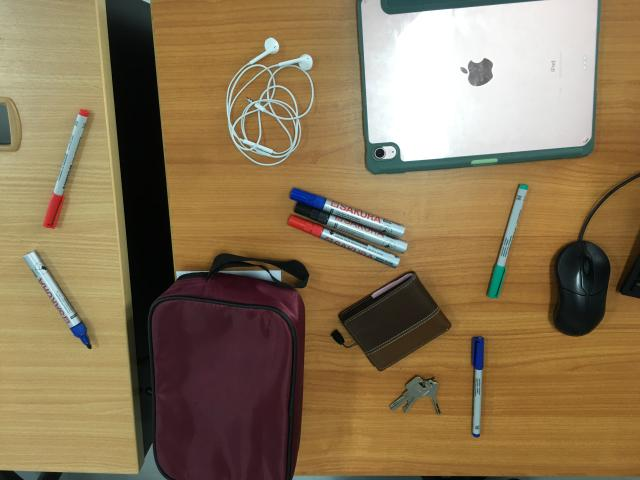Keys: (389, 376, 442, 414)
Mouse: (549, 239, 611, 338)
Pen: (23, 251, 93, 350), (43, 109, 93, 230), (288, 215, 400, 268), (294, 202, 408, 254), (290, 189, 405, 238), (488, 184, 531, 300), (471, 337, 488, 440)
Wallet: (338, 272, 449, 373)
wire: (228, 38, 314, 167)
